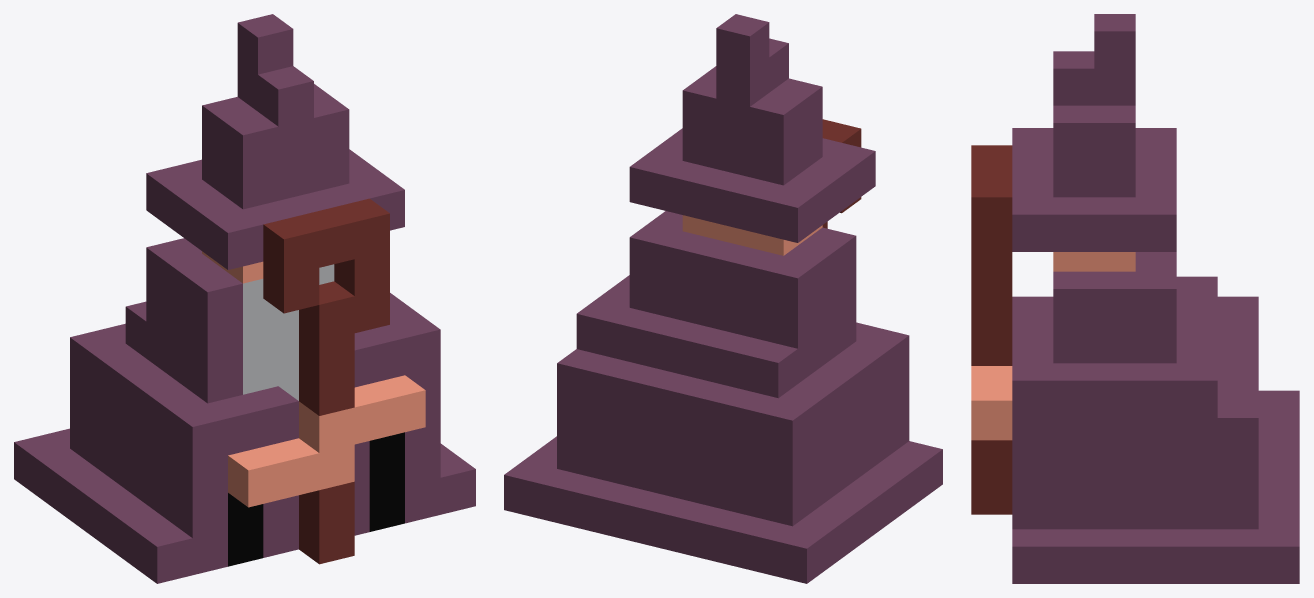
Rendered from mage_action_1.obj.
3 views of the same model, side by side, from view 1: azimuth 30°, elevation 25°; view 2: azimuth 150°, elevation 25°; view 3: azimuth 270°, elevation 25° (orthographic). The views are drawn at different scales.
Size of the model in its own units: 0.9 by 1.3 by 0.8.
Materials: 1 (1 with a texture image).
